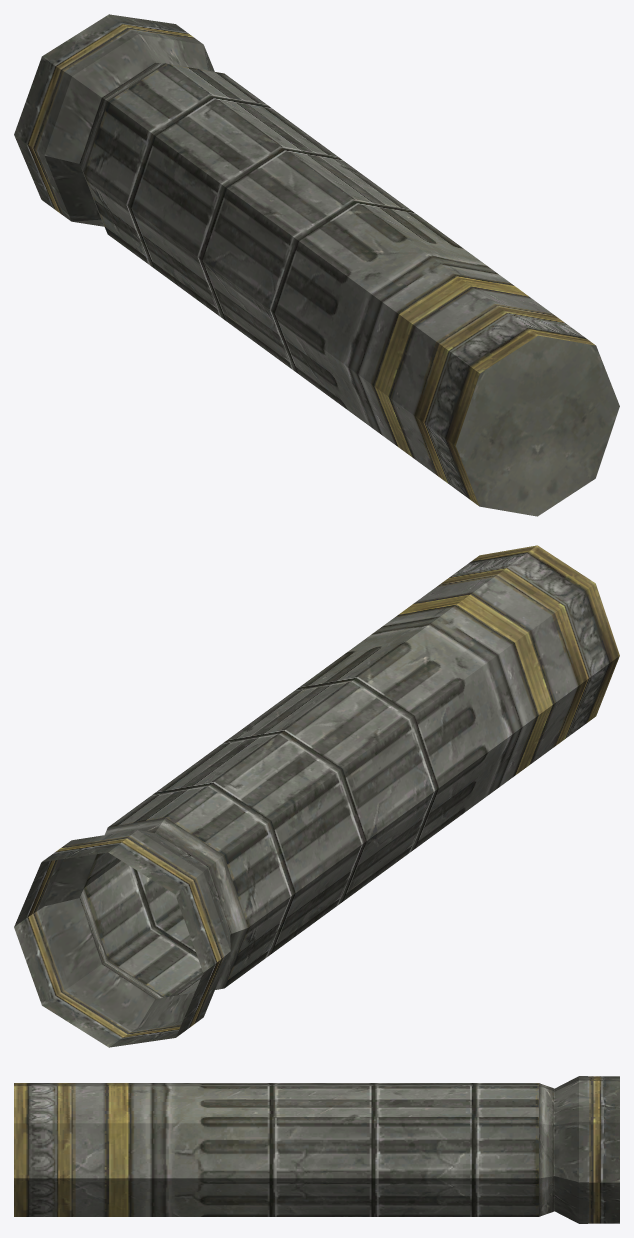
Rendered from aiji_fuben_237_shuishendian_d.obj.
3 renders of one model, top to bottom at view 1: azimuth 30°, elevation 25°; view 2: azimuth 150°, elevation 25°; view 3: azimuth 270°, elevation 25°, orthographic. The views are drawn at different scales.
Visible parts, largest first — view 1: aiji_fuben_237_shuishendian_d; view 2: aiji_fuben_237_shuishendian_d; view 3: aiji_fuben_237_shuishendian_d.
Part boxes in pixels (left/top/right/bottom): aiji_fuben_237_shuishendian_d: left=14, top=14, right=619, bottom=516; aiji_fuben_237_shuishendian_d: left=14, top=545, right=619, bottom=1047; aiji_fuben_237_shuishendian_d: left=14, top=1076, right=619, bottom=1223.
Size of the model in its own units: 73.93 by 73.69 by 290.
Materials: 1 (1 with a texture image).
